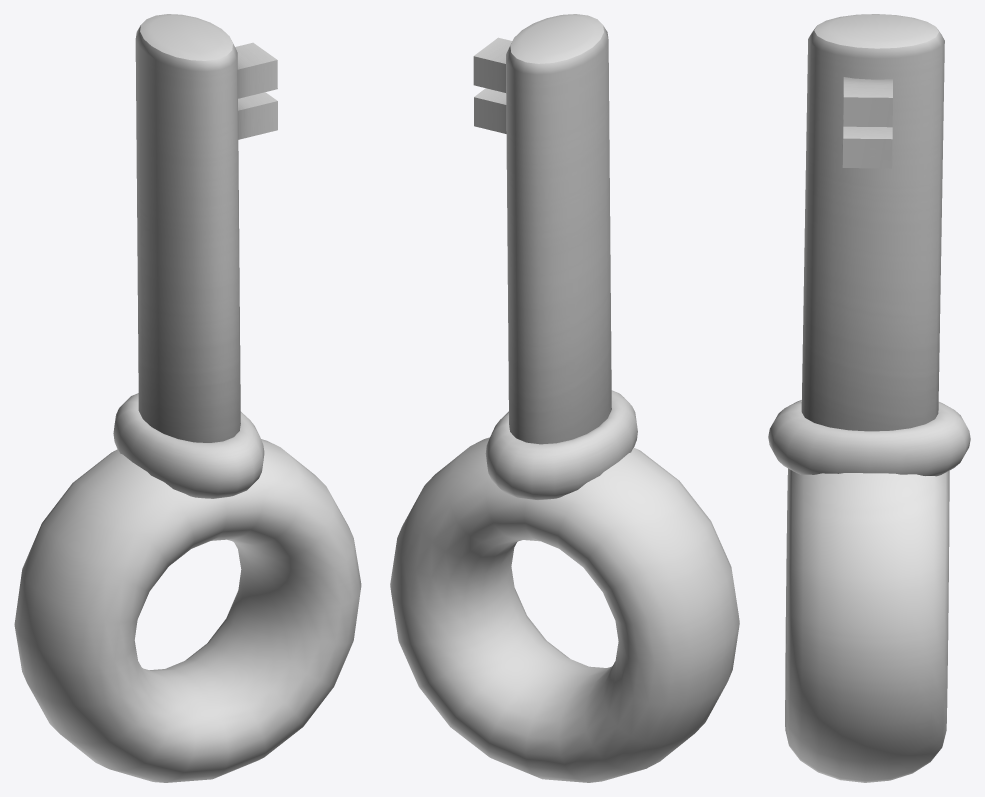
File: Key.fbx
The picture shows the model from 3 angles, left to right: view 1: azimuth 30°, elevation 25°; view 2: azimuth 150°, elevation 25°; view 3: azimuth 270°, elevation 25°; orthographic projection.
Visible parts, largest first — view 1: Key; view 2: Key; view 3: Key.
Part boxes in pixels (bbox=[...]): Key: bbox=[14, 14, 361, 782]; Key: bbox=[390, 14, 739, 782]; Key: bbox=[768, 14, 970, 782].
Size of the model in its own units: 15.97 by 35.27 by 8.73.
Materials: 1 (1 with a texture image).
